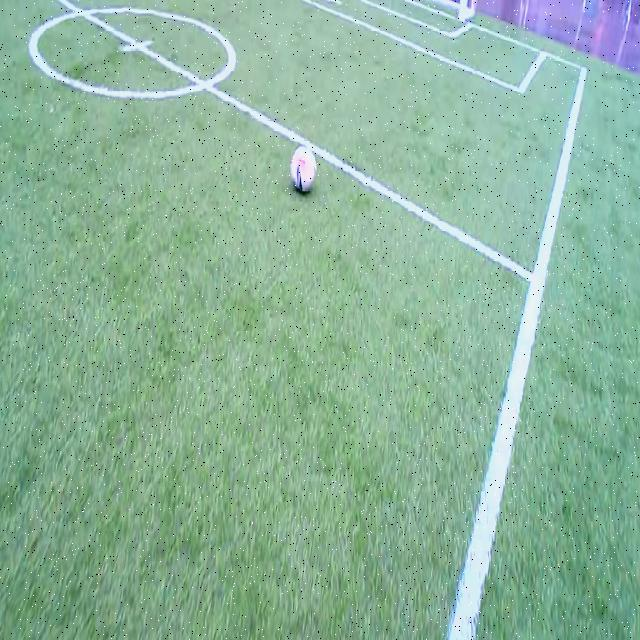ball: (291, 146, 317, 192)
